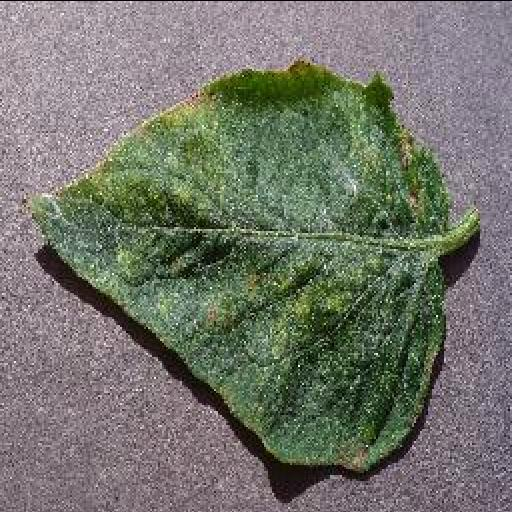disease_tomato: (26, 57, 444, 479)
